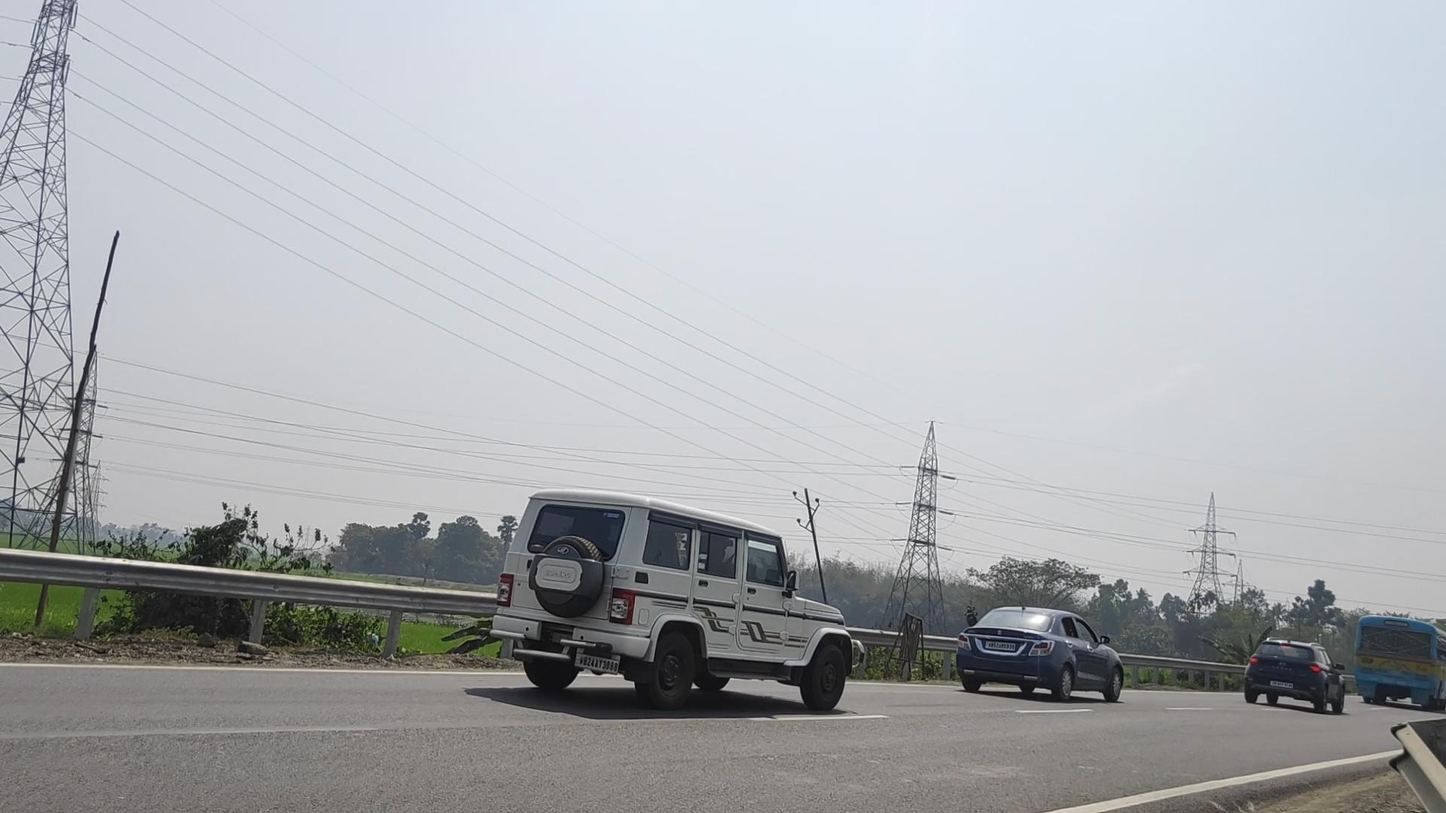Bus: (1356, 615, 1446, 711)
car: (490, 489, 865, 711), (956, 606, 1124, 703), (1244, 638, 1346, 714)
